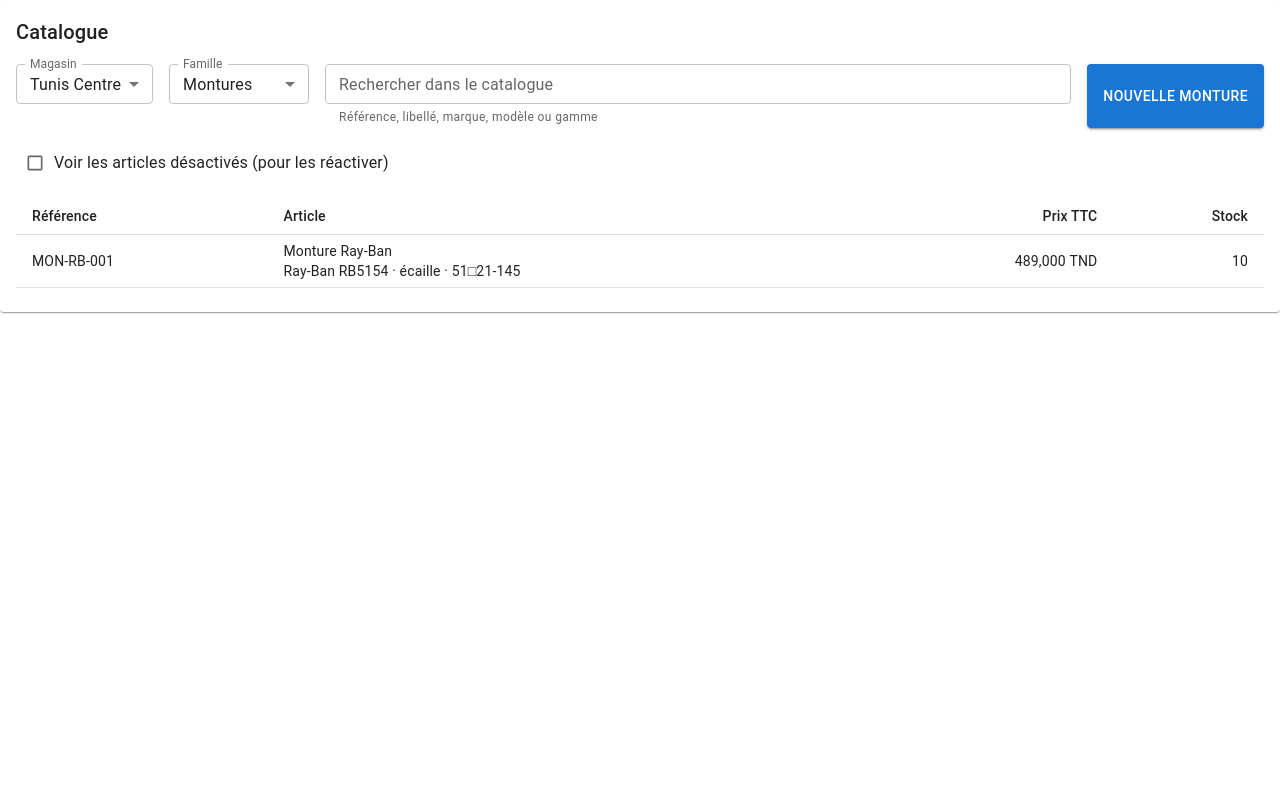
Test: montures : le bouton reste « Nouvelle monture » et ouvre la fiche monture
This screenshot has width=1280, height=800.
expect the text "Monture Ray-Ban" is shown: met, box [284,243,392,259]
What coordinates should you click on to do the following:
click the button "Nouvelle monture"
I would click on:
 (1176, 96)
Its box is [1087,64,1264,128].
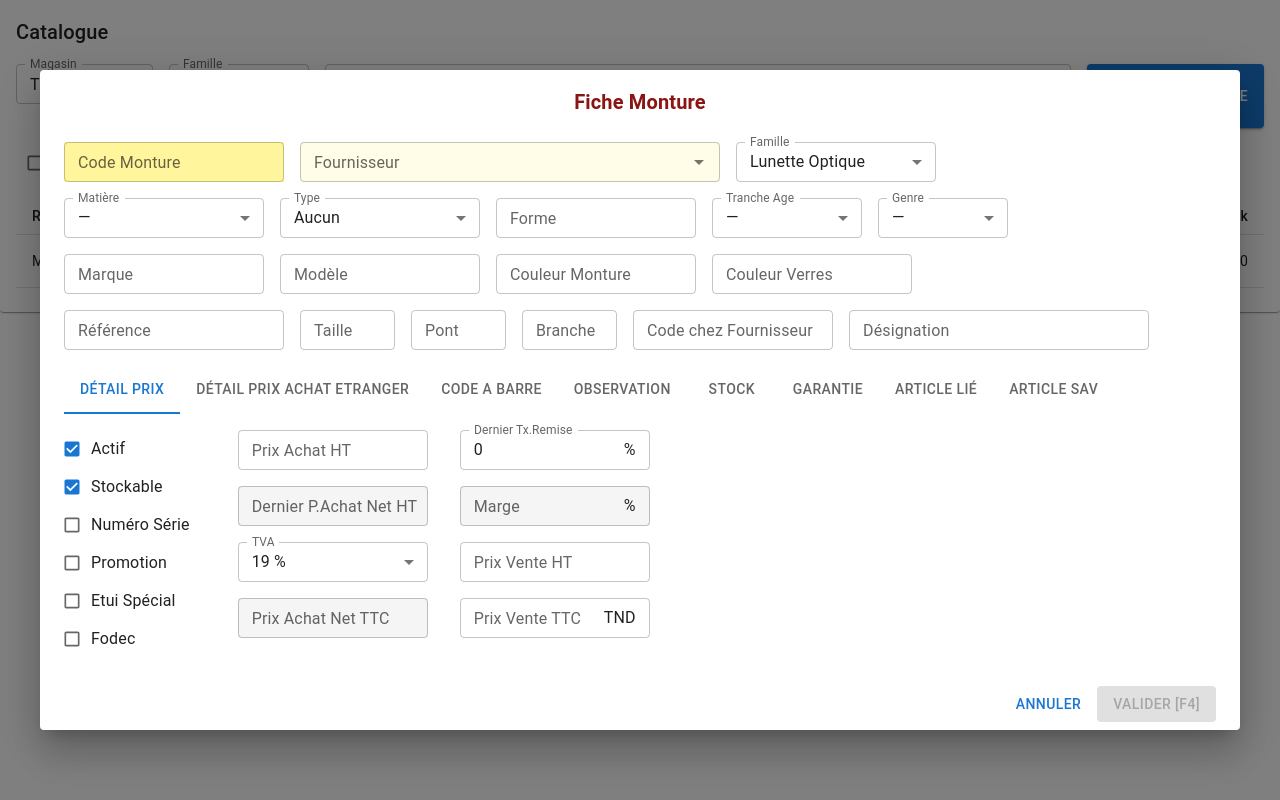
expect the heading "Fiche Monture" is shown: met, box [574,90,706,114]
